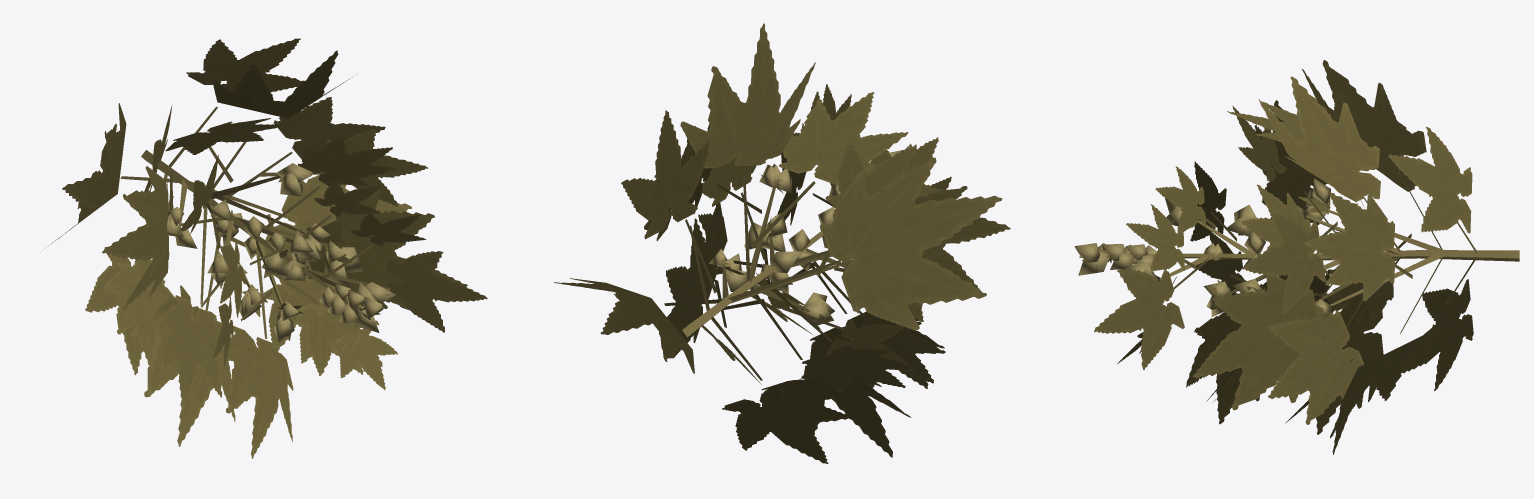
File: p_male_kush_flowering_c2_cards.obj
3 renders of one model, left to right at view 1: azimuth 30°, elevation 25°; view 2: azimuth 150°, elevation 25°; view 3: azimuth 270°, elevation 25°, orthographic. The views are drawn at different scales.
Bounding box in the file's own units: 1.7 × 1.5 × 1.39.
Materials: 1 (1 with a texture image).
